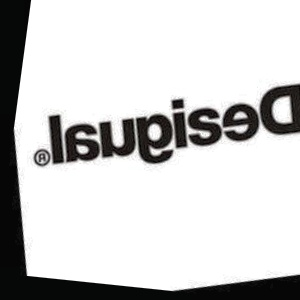desigual: (51, 4, 300, 131)
